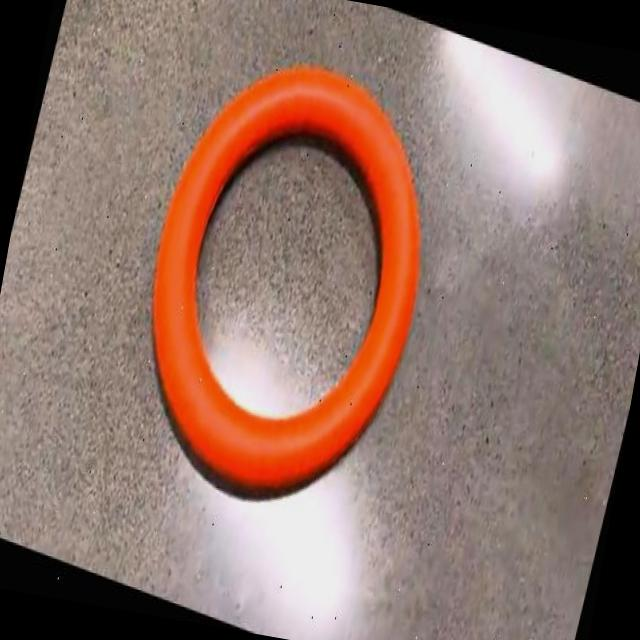note: (154, 67, 418, 493)
